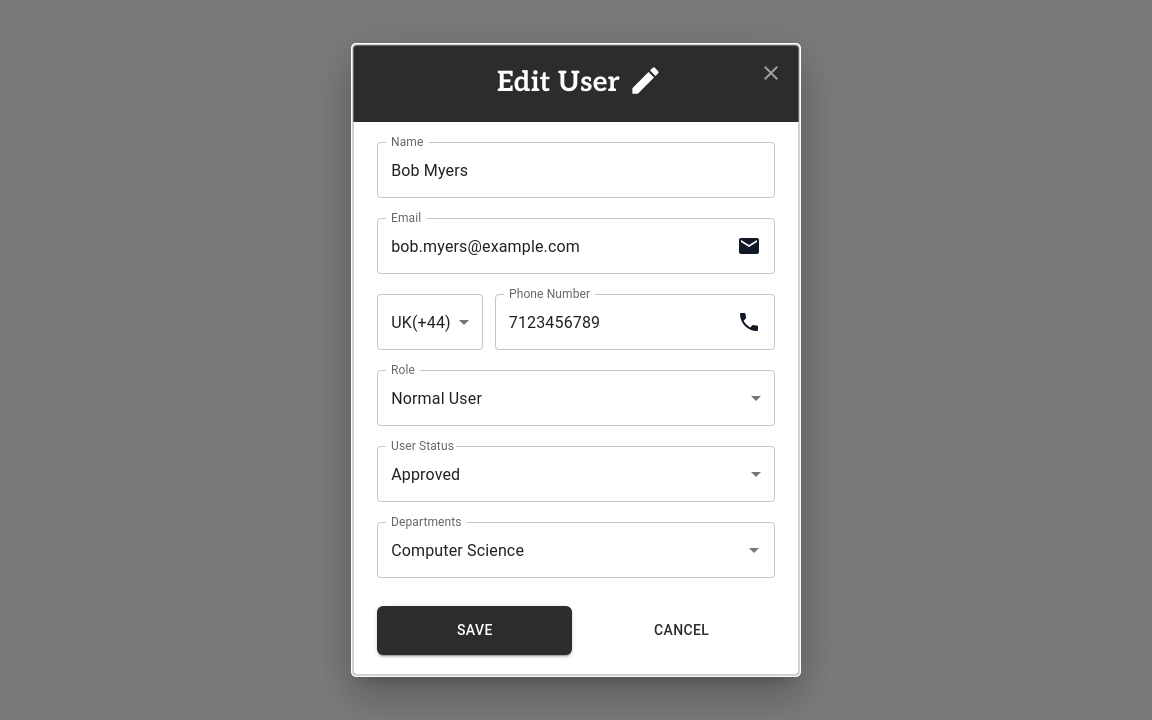
Test case: Super-admin EditDialog (user edit) › shows invalid-email helper when email has no @
Clear the field labelled "Email". click: (553,246)
box: [377,218,729,274]
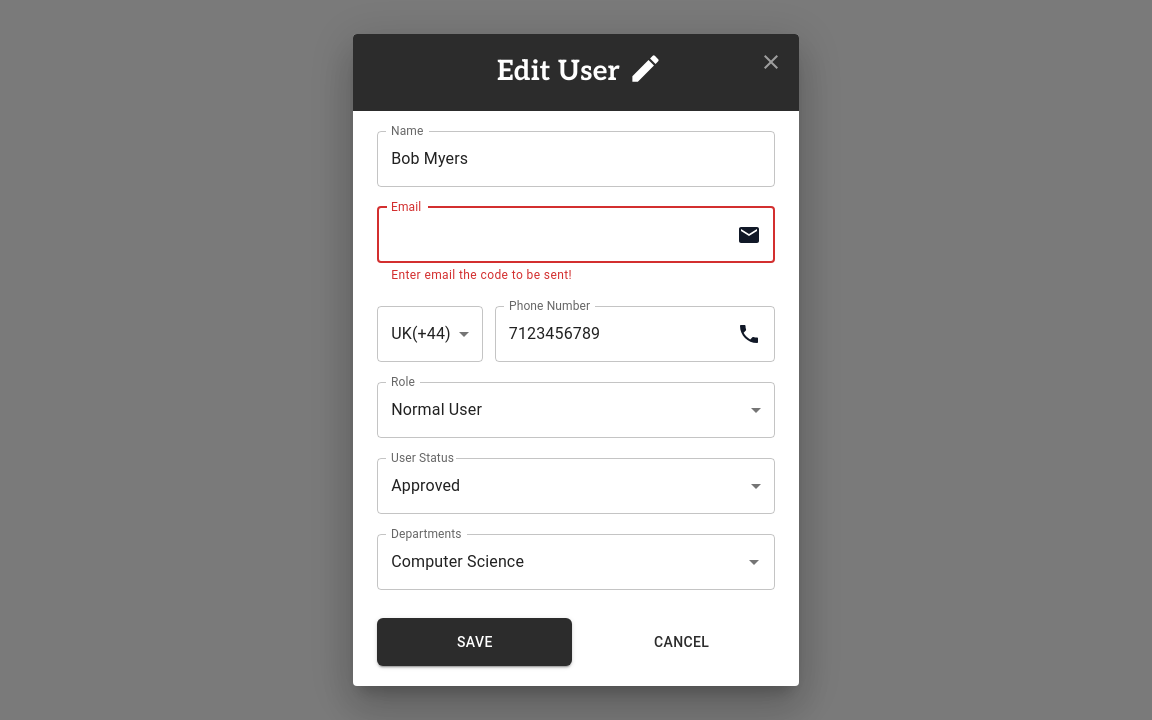
Type "not-an-email" into the field labelled "Email". click: (553,235)
box: [377,207,729,263]
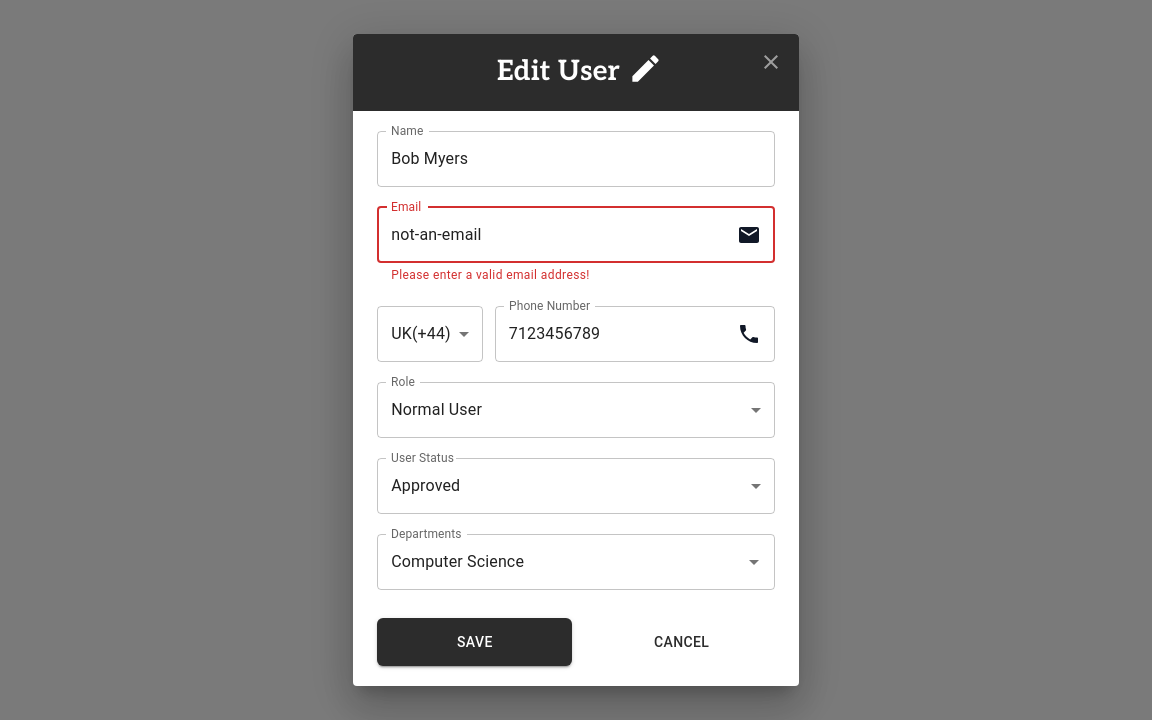
Result: the text "Please enter a valid email address!" is shown at [391,268,590,282]
